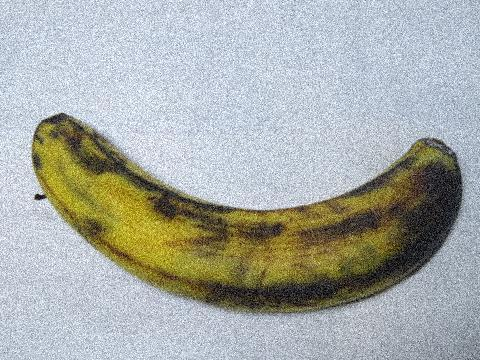overripe: (12, 98, 476, 340)
